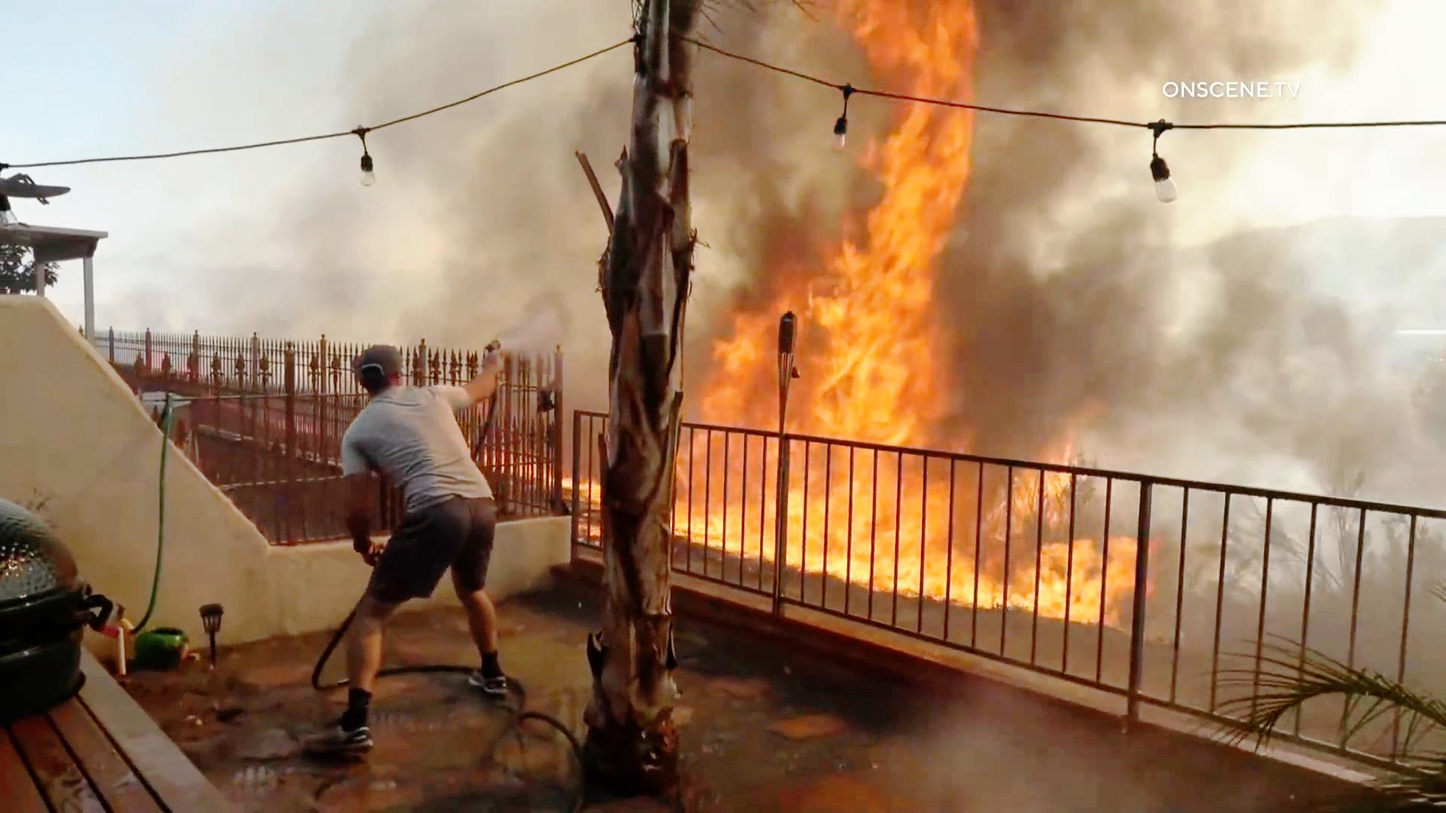fire: (725, 11, 974, 426)
smoke: (961, 187, 1416, 446), (989, 2, 1147, 177), (433, 151, 566, 328)
